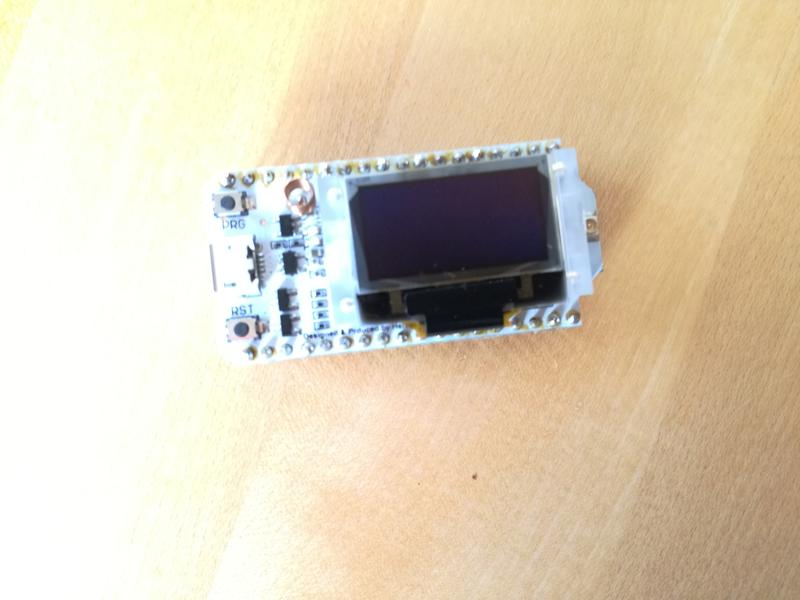Heltec_ESP32_Lora: (195, 135, 609, 366)
